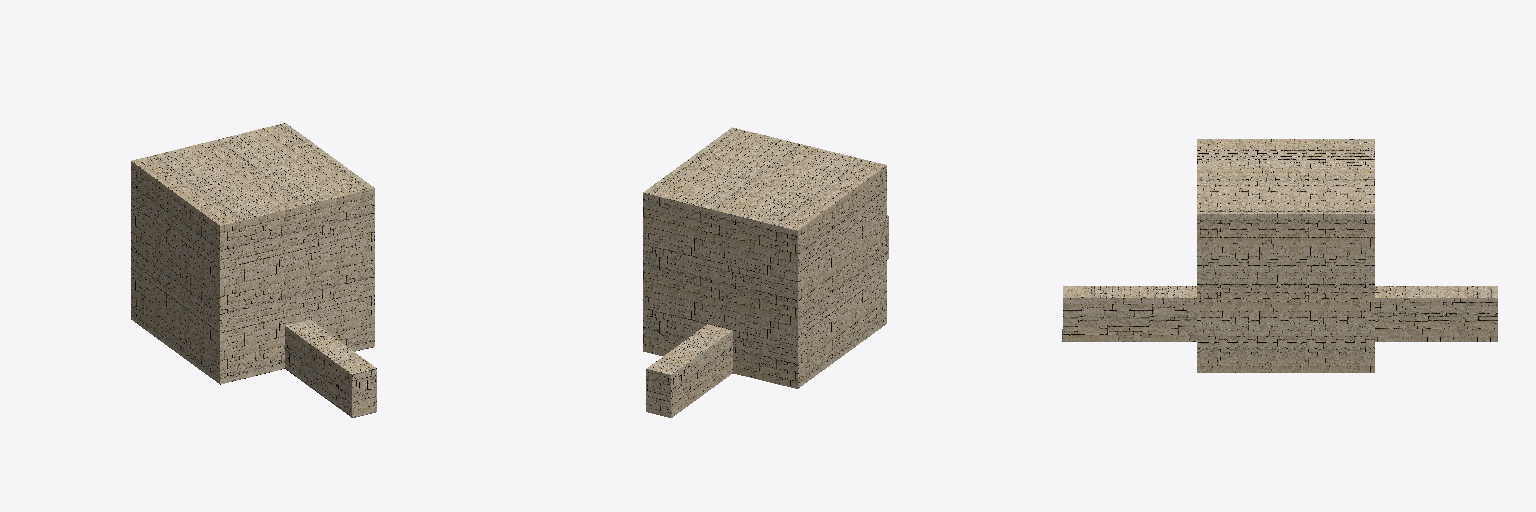
3 renders of one model, left to right at view 1: azimuth 30°, elevation 25°; view 2: azimuth 150°, elevation 25°; view 3: azimuth 270°, elevation 25°, orthographic.
Parts seen in each view (by area): view 1: Circle; view 2: Circle; view 3: Circle.
Boxes of the visible parts, <box> form: Circle: <box>131,123,376,417</box>; Circle: <box>643,127,888,417</box>; Circle: <box>1062,139,1497,372</box>.
Size of the model in its own units: 52.45 by 51.44 by 128.
4 materials, 2 textured.